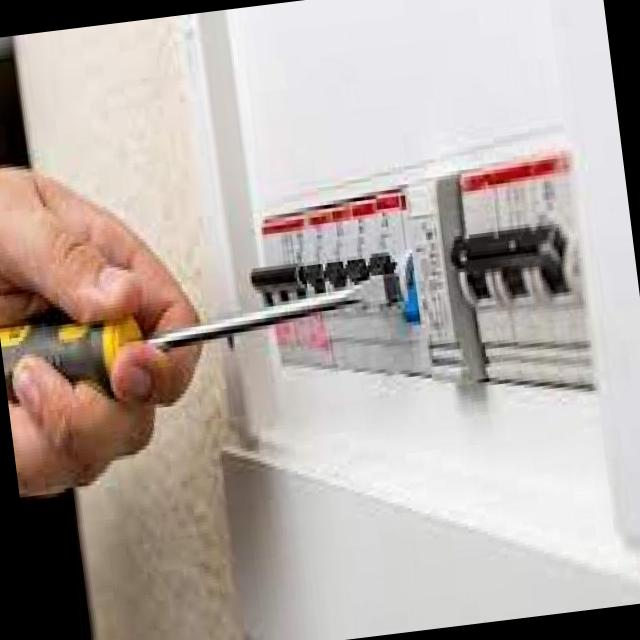screwdriver: (142, 274, 400, 349), (0, 317, 141, 400)
